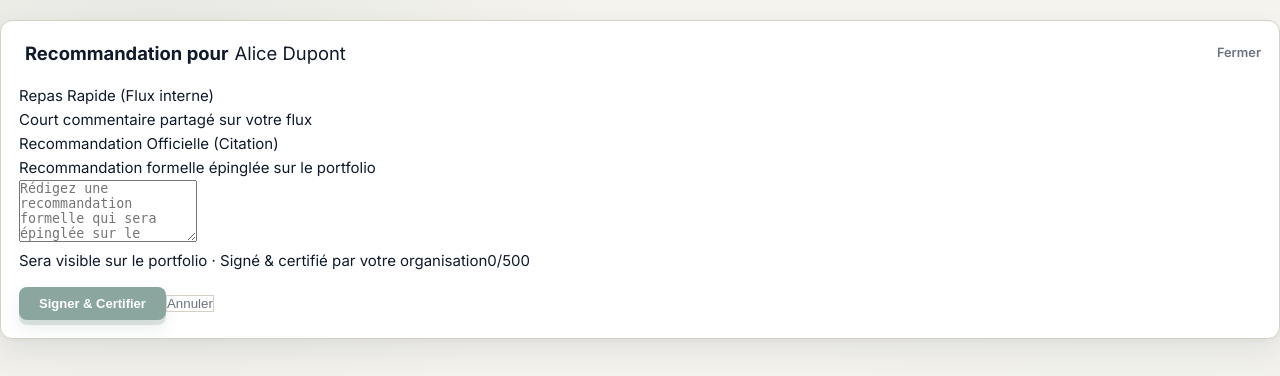
Scenario: RecommendationForm.vue — Tests d'Intégration › 16 — après envoi, le textarea est réinitialisé à vide
Replace the text in the text box with class "rec-textarea" with "Super candidat !" at (108, 211), box 19,180 -> 197,242
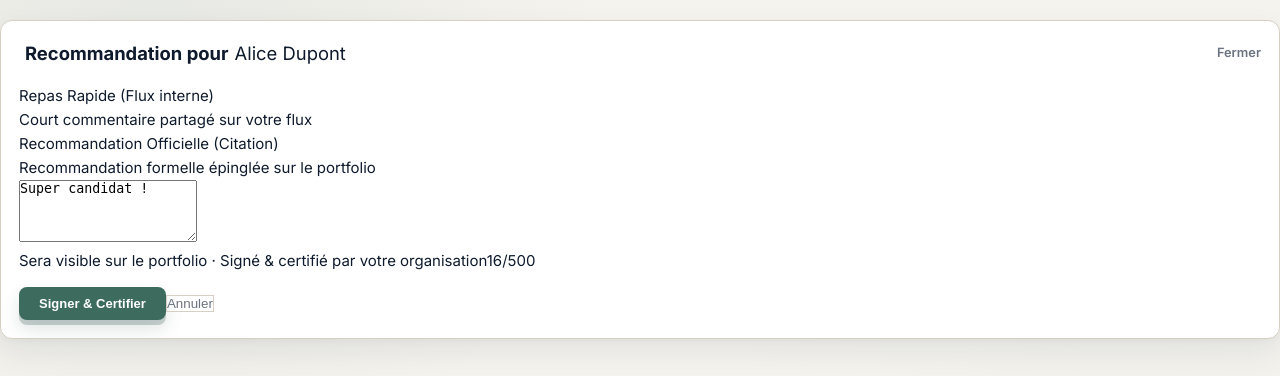
Click the button with class "btn-action" showing "Signer & Certifier" at (92, 304), box 19,287 -> 166,320
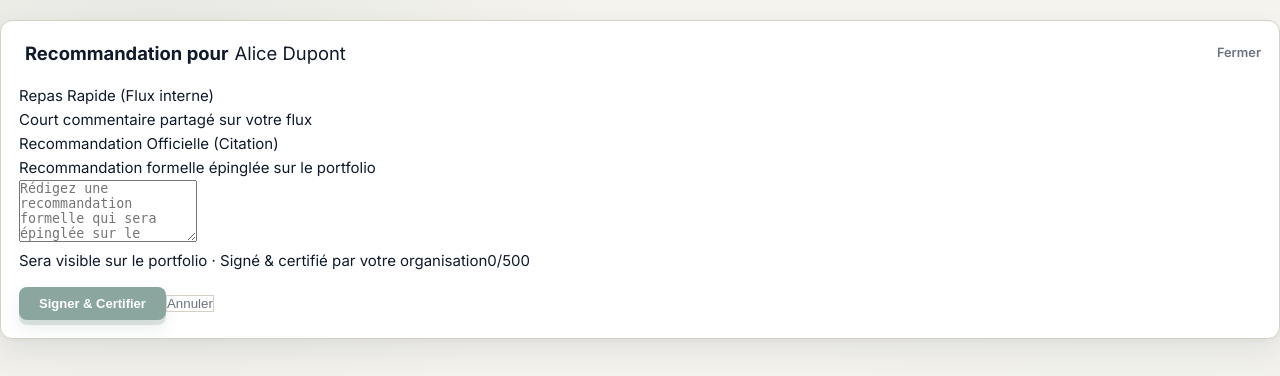
Expected: the text with class "rec-char-count" reads "0/500", 487,251 -> 530,270
